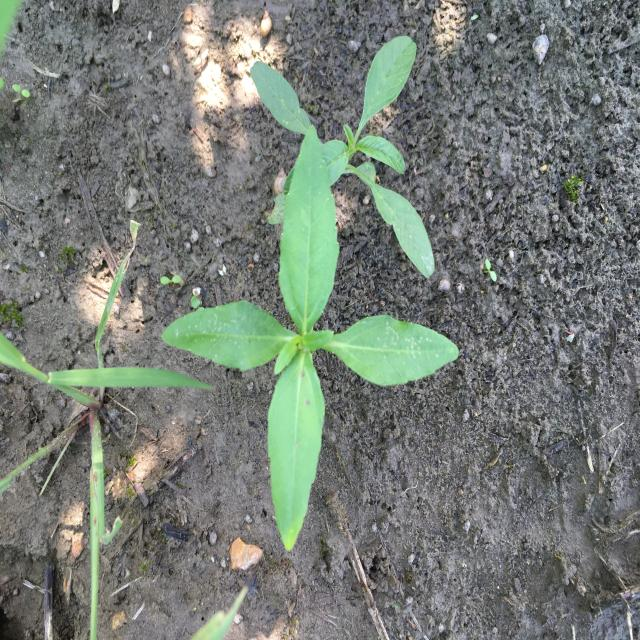Eclipta: (159, 123, 461, 553)
Waterhemp: (247, 35, 437, 282)
